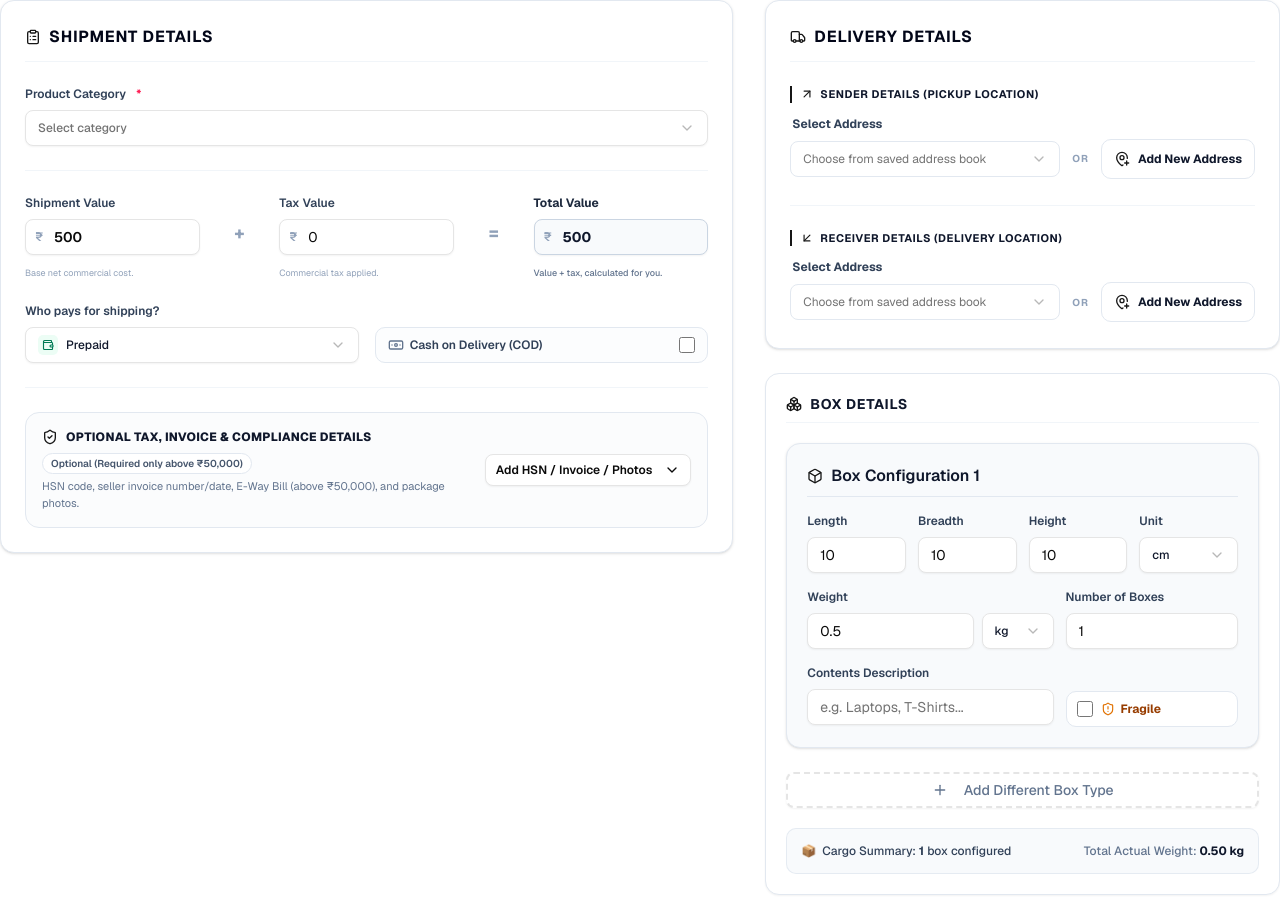
Scenario: ForwardFormStep — progressive disclosure for B2C booking › ensures Invoice Date DatePicker, FormItems, and file upload row use w-full min-w-0 and never overflow with w-[280px]
Click the button with test id "booking.compliance.toggle": (588, 470) [485, 454, 691, 486]
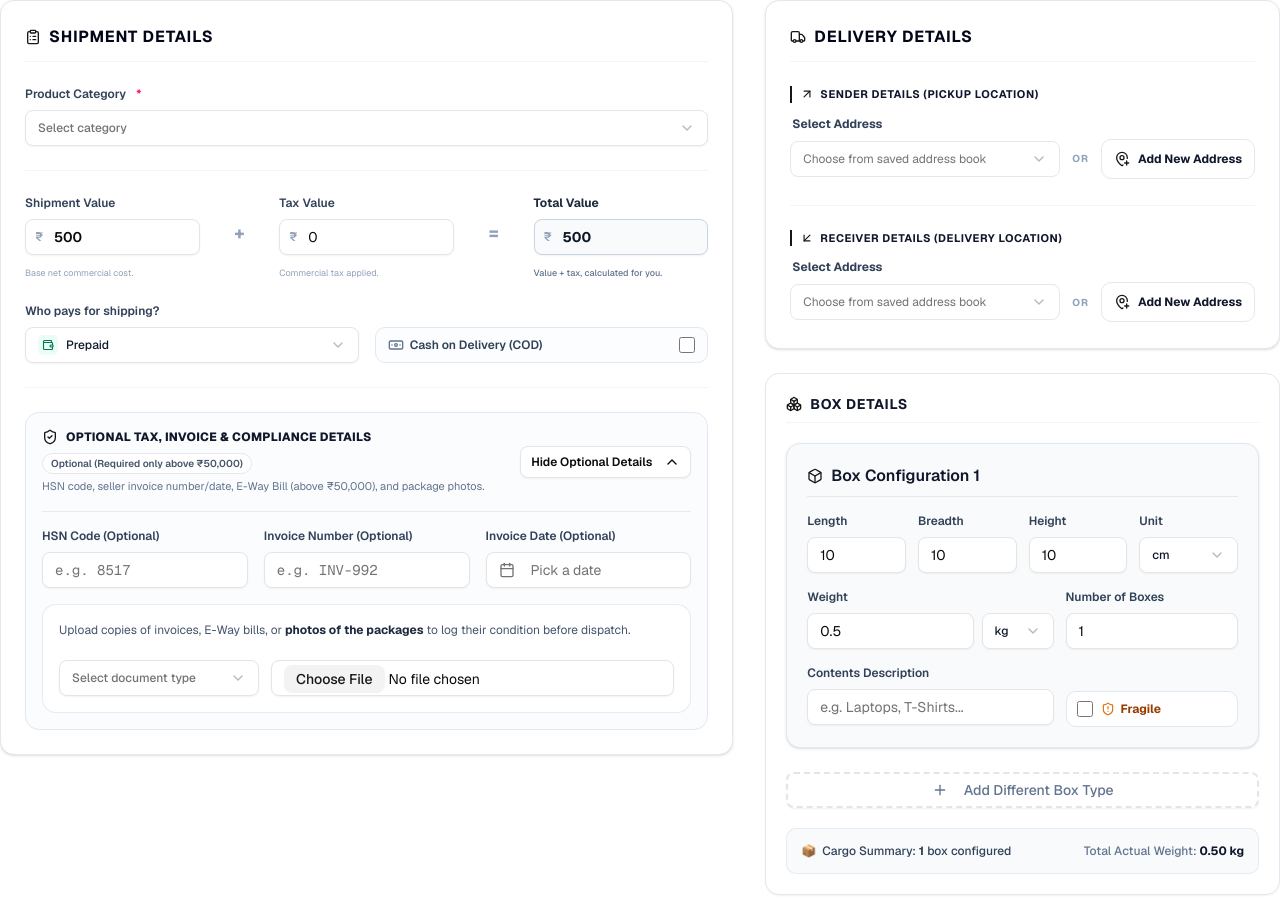
Now the file field with id "sandbox-file-upload" is shown, box [271, 660, 674, 696]
